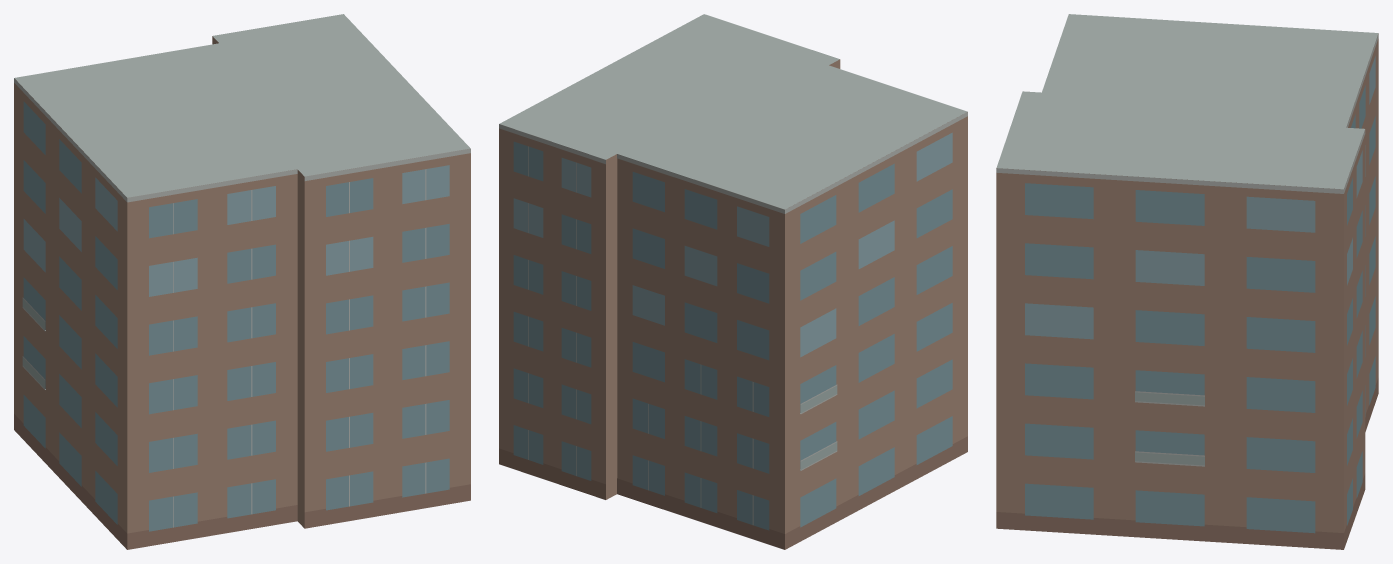
The model's file is survey-upis-32561995.glb.
The picture shows the model from 3 angles, left to right: view 1: azimuth 30°, elevation 25°; view 2: azimuth 150°, elevation 25°; view 3: azimuth 270°, elevation 25°; orthographic projection. The views are drawn at different scales.
Parts seen in each view (by area): view 1: survey-upis-32561995.tmp; view 2: survey-upis-32561995.tmp; view 3: survey-upis-32561995.tmp.
Part boxes in pixels (x1,y1,x2,y2): survey-upis-32561995.tmp: (14, 14, 470, 549); survey-upis-32561995.tmp: (499, 14, 967, 549); survey-upis-32561995.tmp: (996, 14, 1378, 549).
Bounding box in the file's own units: 19.51 × 18.7 × 17.97.
